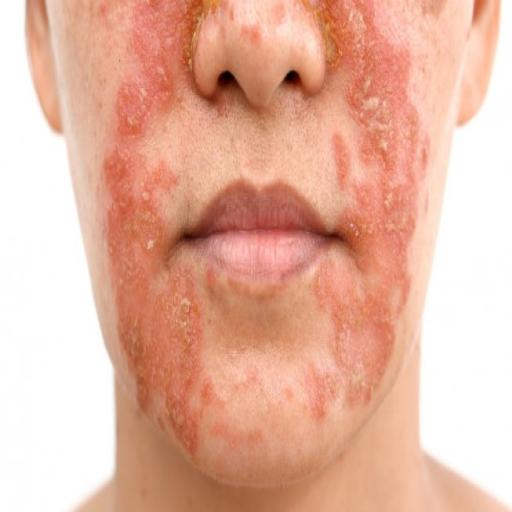Skin_Lesion: (379, 175, 412, 262), (137, 27, 169, 110), (315, 1, 350, 71), (359, 75, 388, 158), (150, 157, 180, 221), (366, 296, 404, 345), (112, 158, 136, 224), (120, 314, 150, 366), (180, 0, 199, 70), (325, 320, 354, 362), (176, 288, 198, 343), (178, 406, 201, 456), (309, 384, 332, 432), (346, 372, 372, 410), (202, 263, 222, 308), (136, 380, 152, 412), (201, 380, 214, 407), (347, 217, 361, 240), (97, 0, 111, 18)
